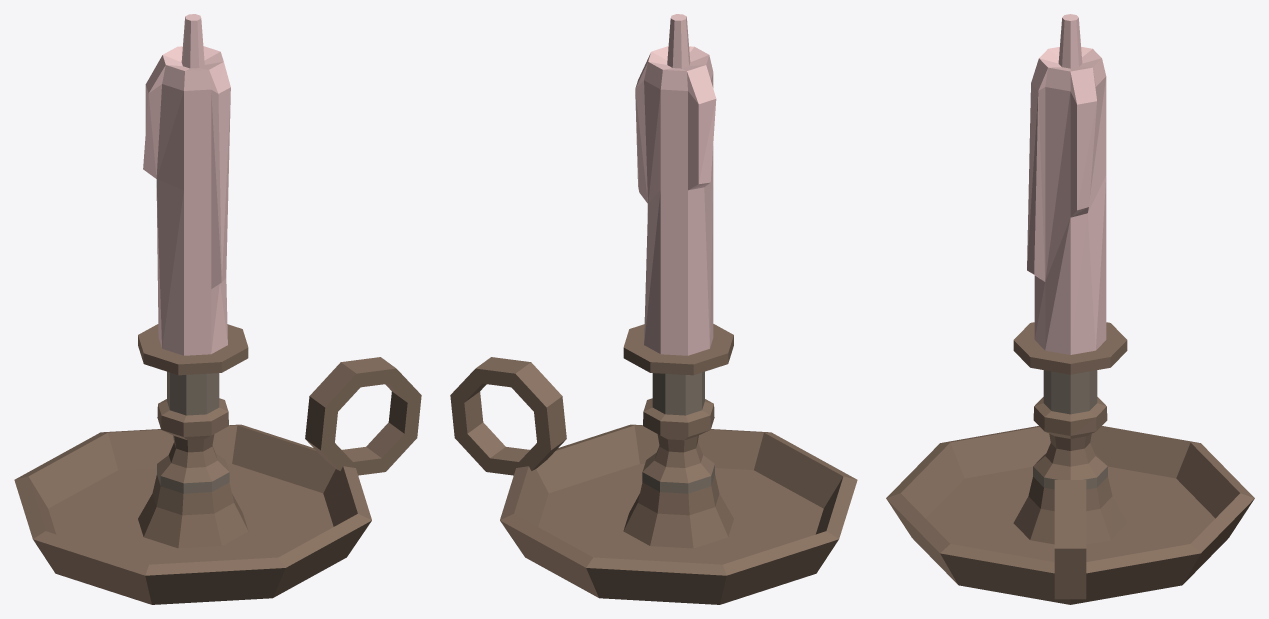
The model's file is SM_Item_Candle_01.glb.
3 renders of one model, left to right at view 1: azimuth 30°, elevation 25°; view 2: azimuth 150°, elevation 25°; view 3: azimuth 270°, elevation 25°, orthographic.
Parts seen in each view (by area): view 1: SM_Item_Candle_01_00; view 2: SM_Item_Candle_01_00; view 3: SM_Item_Candle_01_00.
Part boxes in pixels (bbox=[...]): SM_Item_Candle_01_00: bbox=[14, 14, 421, 604]; SM_Item_Candle_01_00: bbox=[450, 14, 857, 604]; SM_Item_Candle_01_00: bbox=[886, 14, 1254, 604].
Size of the model in its own units: 0.2582 by 0.3385 by 0.2174.
Materials: 1 (1 with a texture image).
